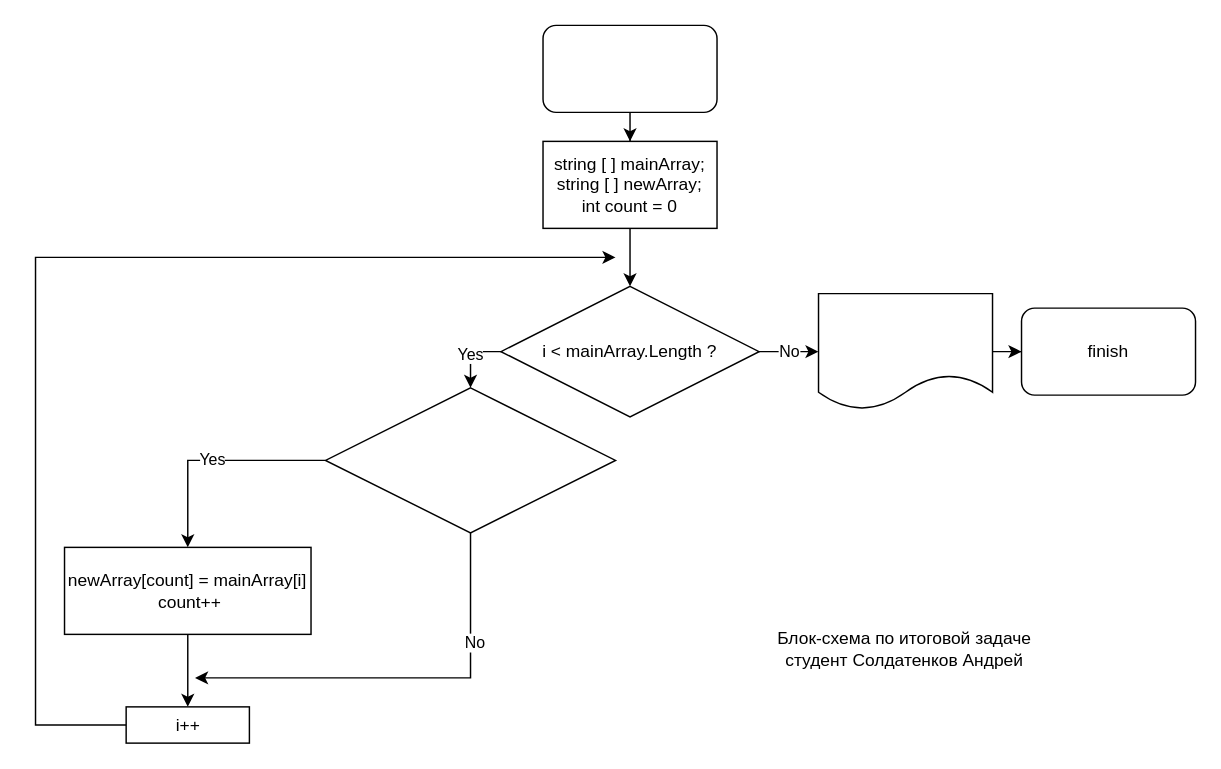
This 1221x769 diagram has some shape labels left out. The shapes that lost their labels are listed below. From the top down, each one's centre as x and y in pixels, then its label:
pixel 629 68: start
pixel 905 351: print (newArray)
pixel 470 459: mainArray[i].Length <=3 ?
